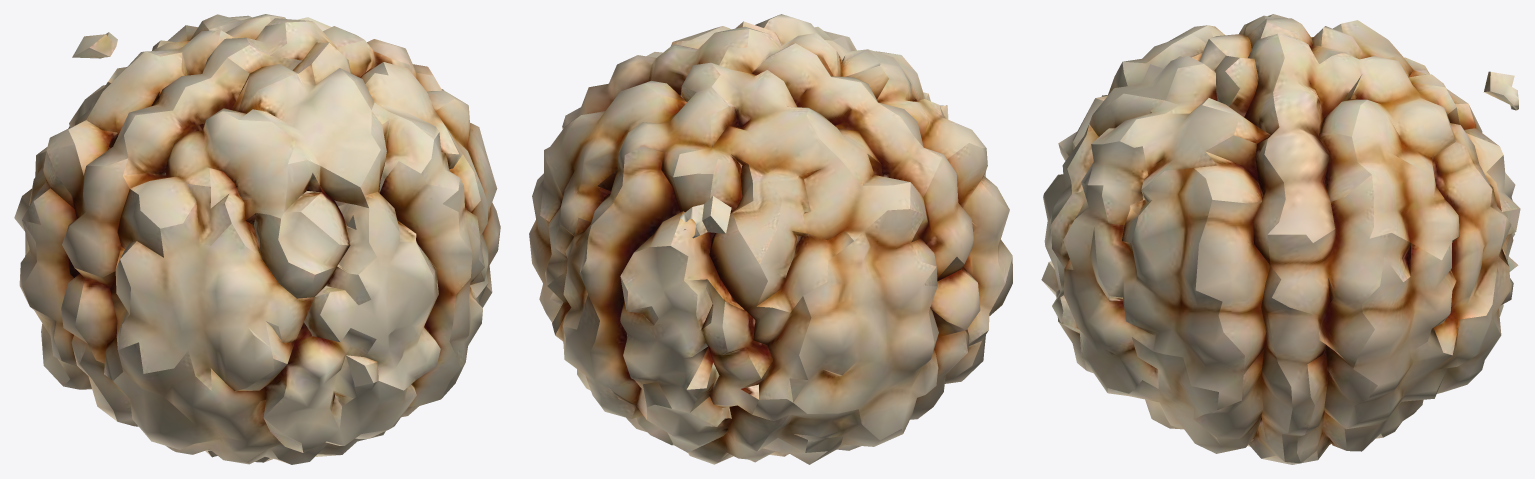
Rendered from wool.glb.
3 views of the same model, side by side, from view 1: azimuth 30°, elevation 25°; view 2: azimuth 150°, elevation 25°; view 3: azimuth 270°, elevation 25° (orthographic).
Parts seen in each view (by area): view 1: wool; view 2: wool; view 3: wool.
Boxes of the visible parts, x1=… form: wool: x1=14, y1=14, x2=500, y2=464; wool: x1=529, y1=14, x2=1012, y2=464; wool: x1=1041, y1=14, x2=1520, y2=464.
Bounding box in the file's own units: 0.9811 × 0.9494 × 1.
Materials: 1 (1 with a texture image).
